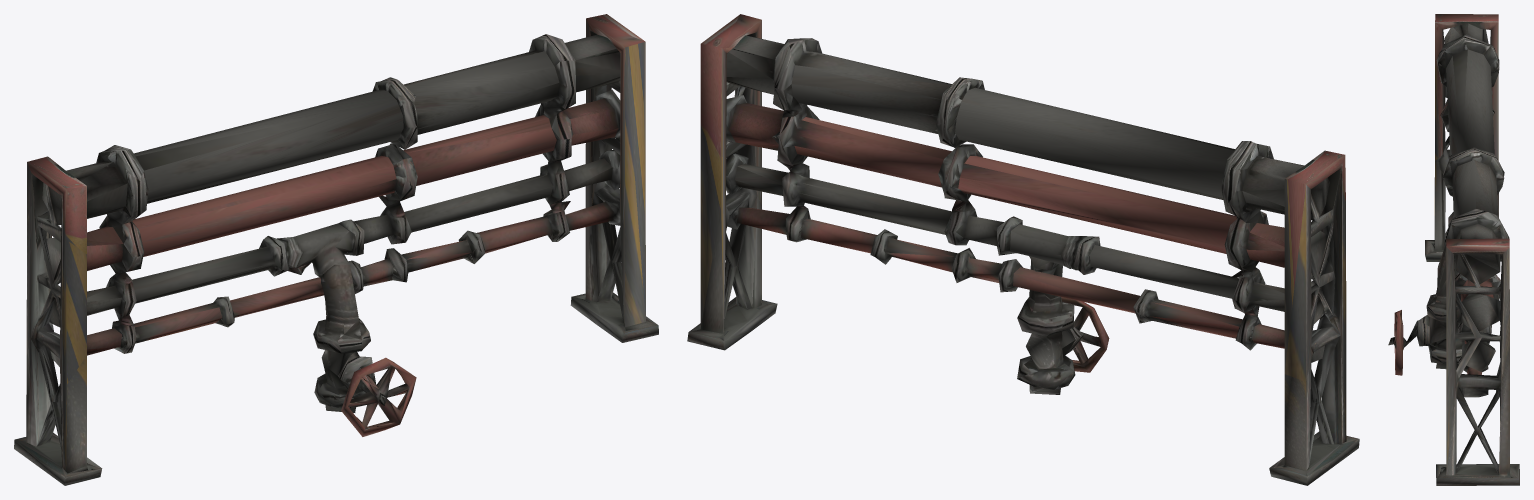
File: pipe_rack.glb
3 renders of one model, left to right at view 1: azimuth 30°, elevation 25°; view 2: azimuth 150°, elevation 25°; view 3: azimuth 270°, elevation 25°, orthographic. The views are drawn at different scales.
Size of the model in its own units: 0.9989 by 0.4875 by 0.233.
1 material, 1 textured.
